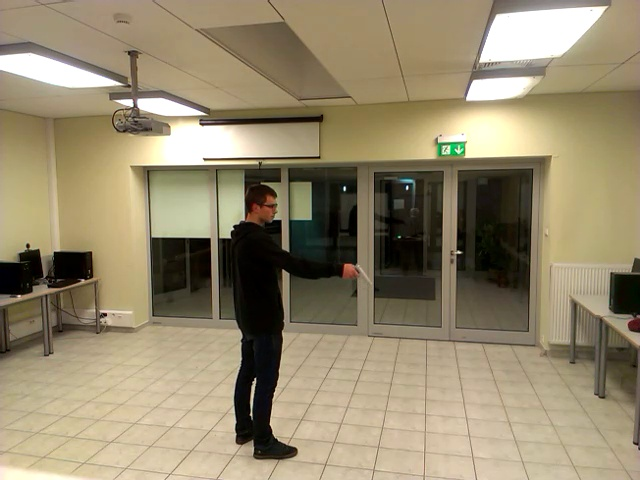gun: (347, 247, 386, 299)
